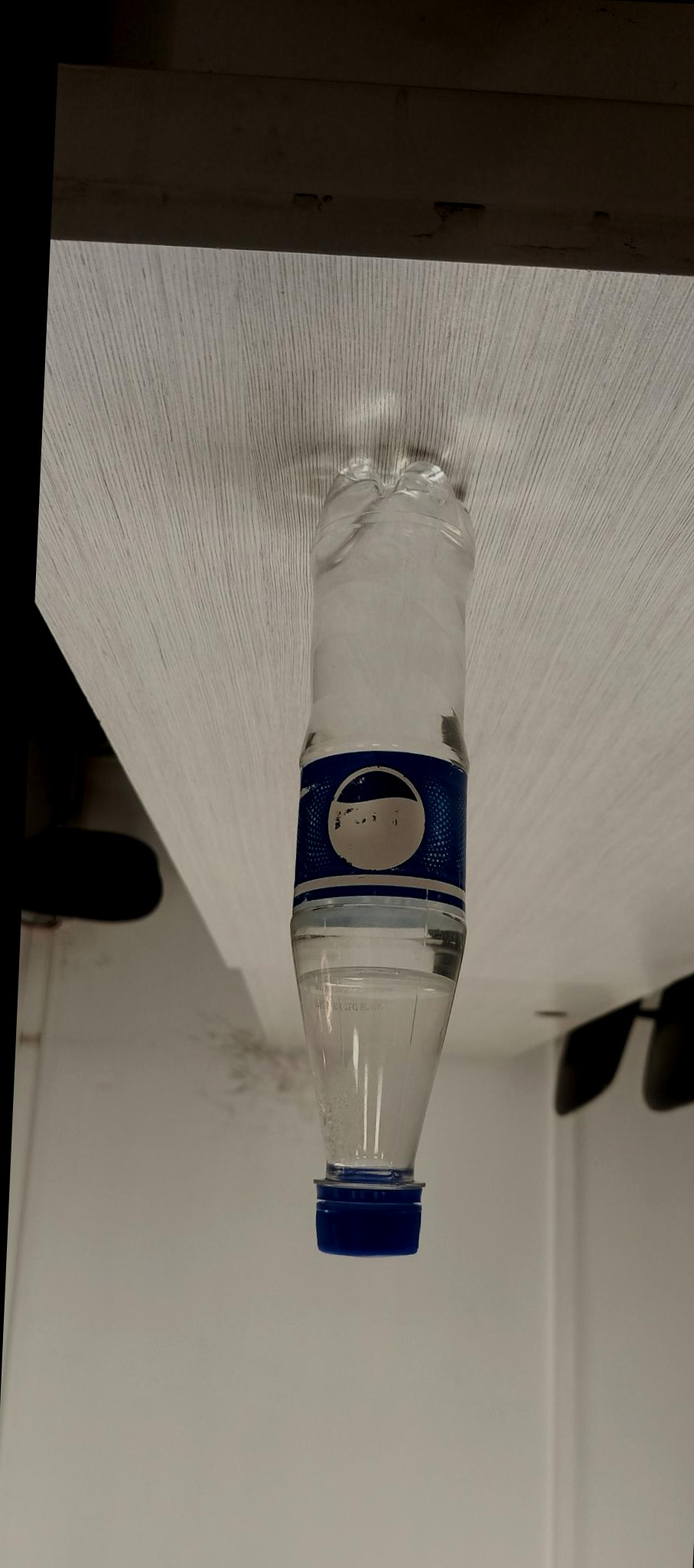Pepsi Bottle: (210, 409, 523, 1275), (224, 414, 518, 1272)
